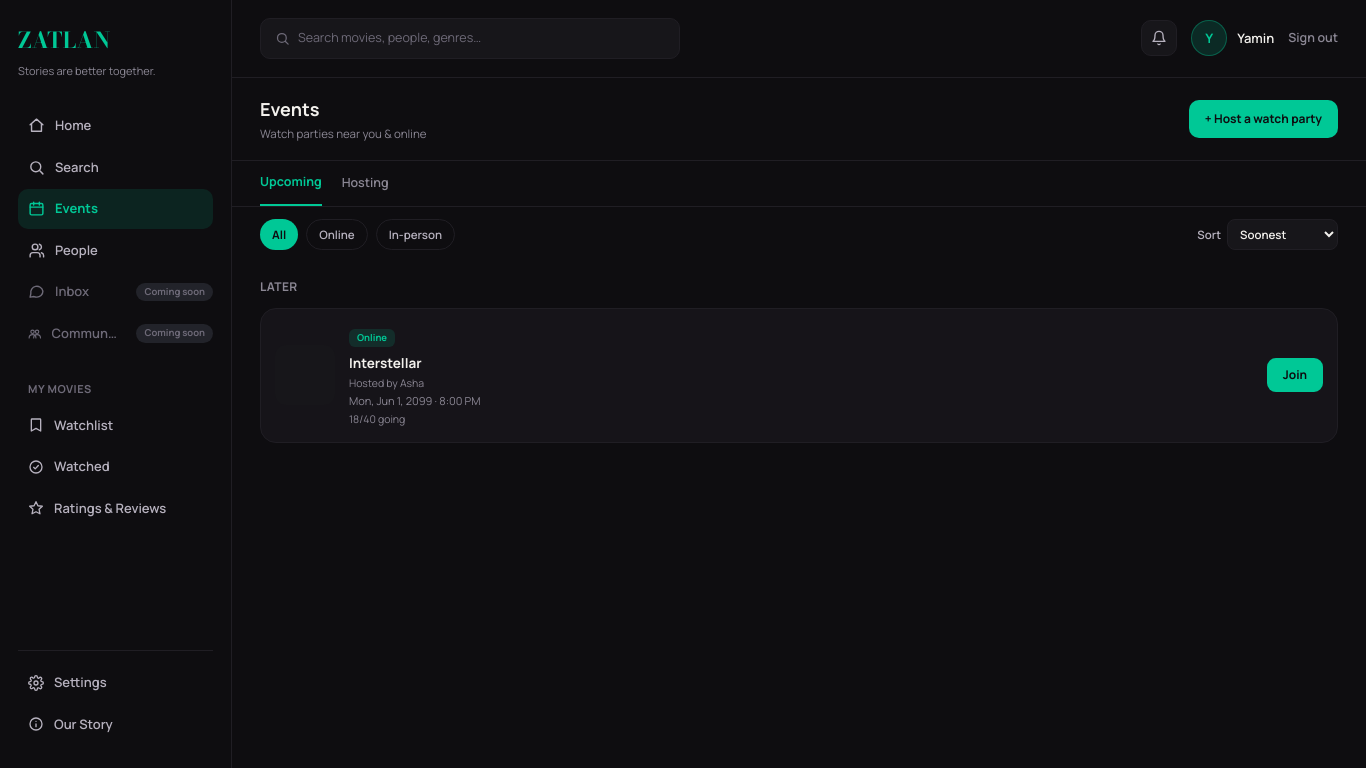
Test: EventsPage › clears the previous tab's items when switching tabs, so a slow or failed fetch never shows stale rows under the wrong tab's action label
Expected: the text "Interstellar" is shown, [349,354,422,372]
Click the button "Hosting" at (365, 189), box [342,173,389,206]
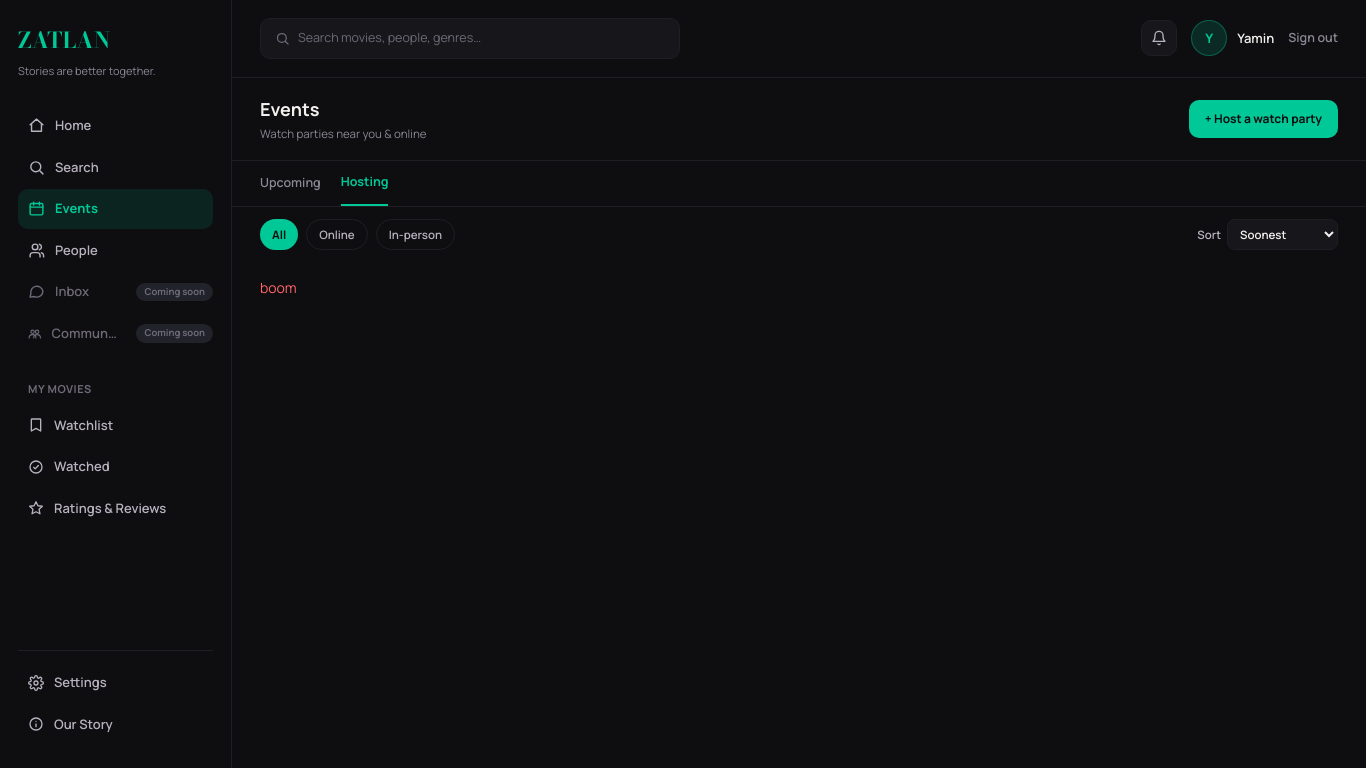
Now the message reads "boom", box [260,278,297,297]
Now the button "Interstellar" is gone
